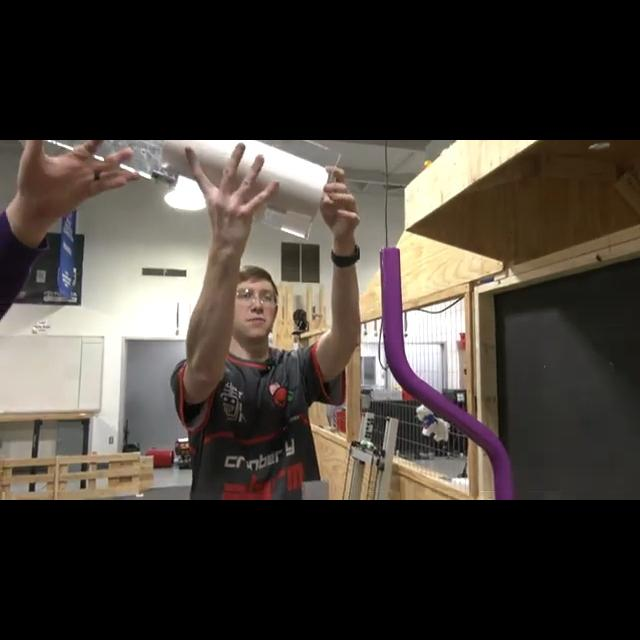CORAL: (158, 140, 330, 240)
